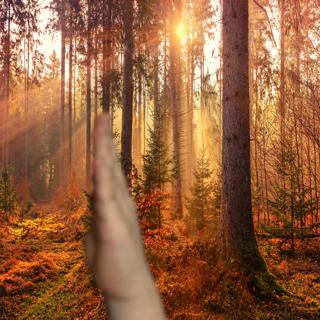RIGHT: (78, 109, 160, 301)
